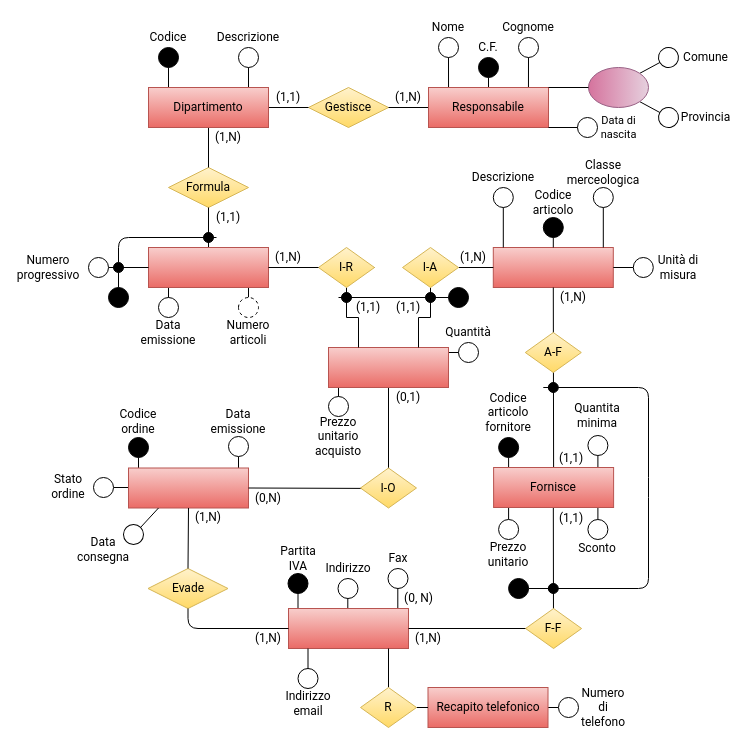
Image size: 750x746. Some labels were removed from this diagram. The shapes that lost their labels are listed below. From the top down, each one's centre as x and y in pixels, then its label:
At (618,87): "Luogo di nascita".
At (208,267): "Richiesta d'acquisto".
At (552,267): "Articolo".
At (388,367): "Include".
At (188,487): "Ordine".
At (348,628): "Fornitore".
